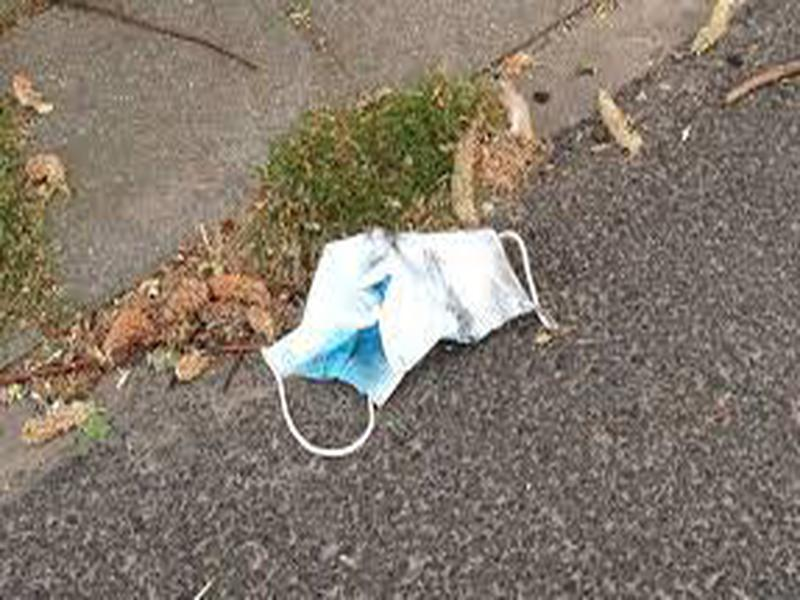mask: (251, 217, 561, 464)
